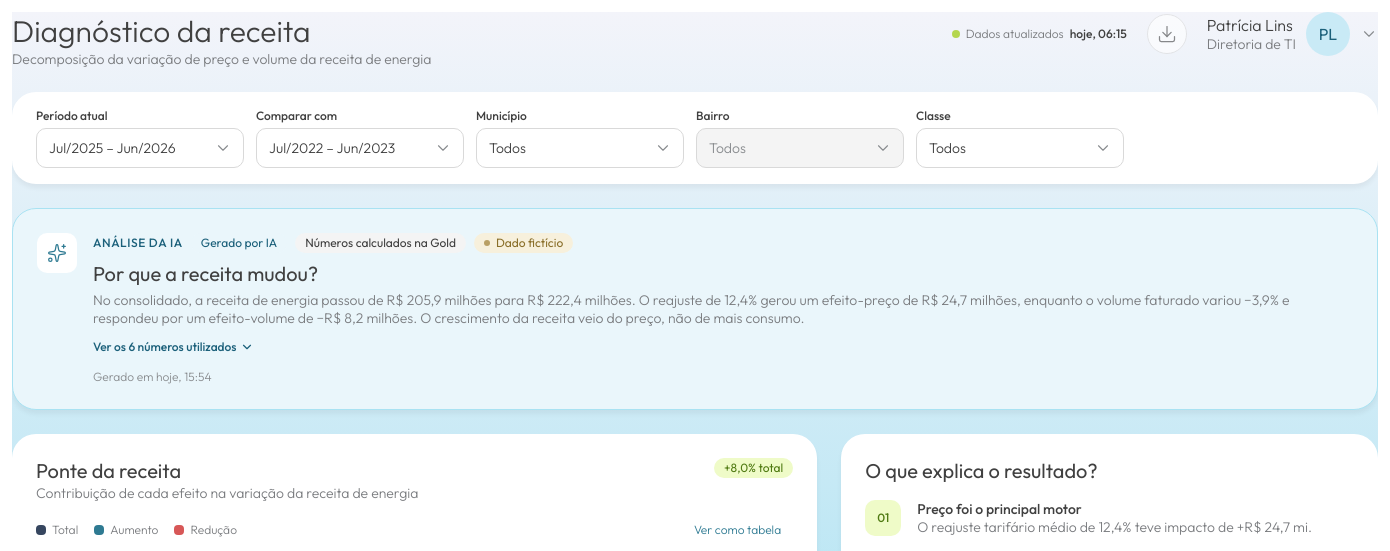
Test: ReceitaPage (com mocks) › lista os seis números usados pela IA ao expandir
Click the button "Ver os 6 números utilizados": (174, 347) [93,339,254,355]
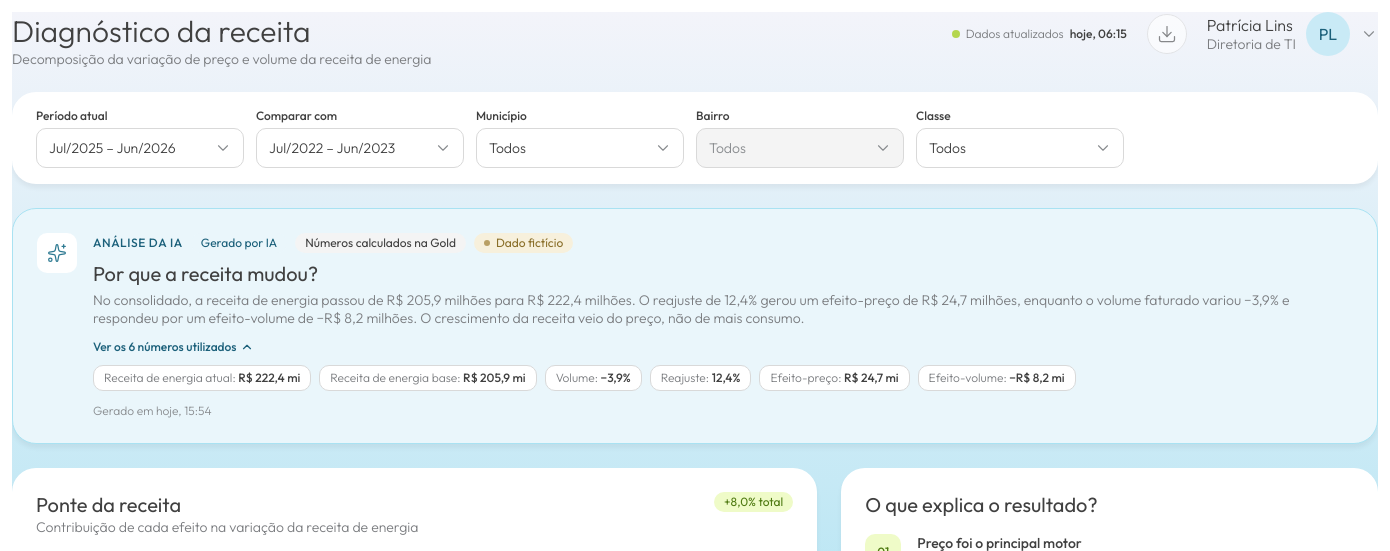
Now the text "R$ 222,4 mi" is shown, box [238,370,300,385]
